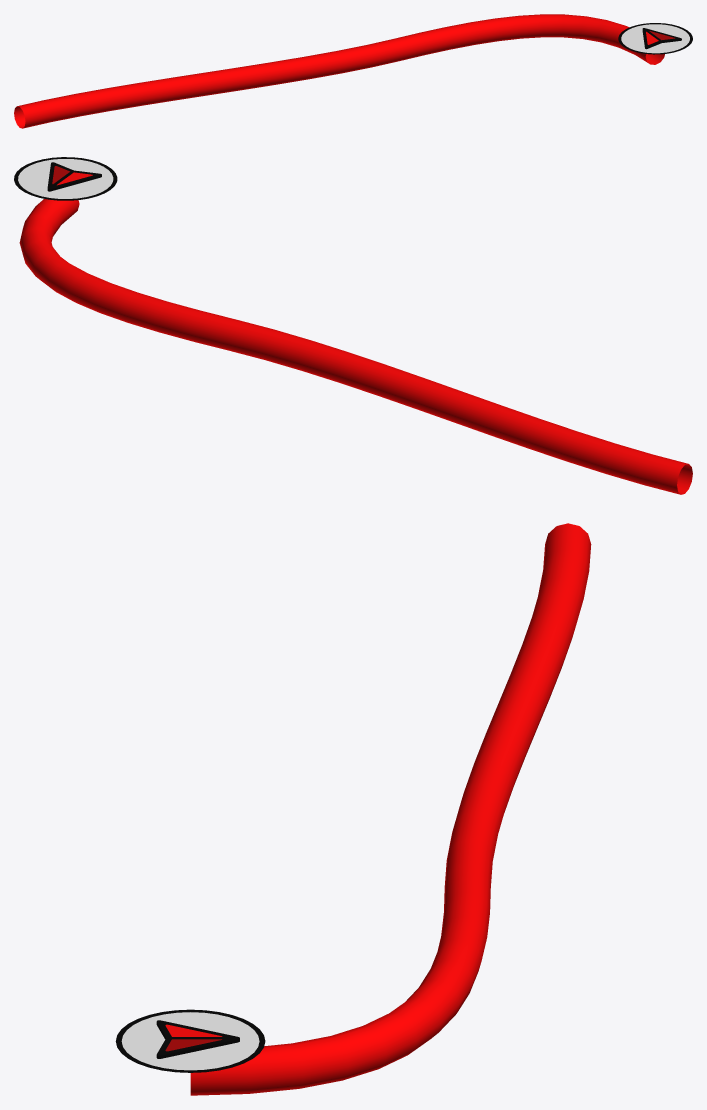
The model's file is route_bf5a87be-7395-4815-a6c8-8b43fdc8217d_de_single.glb.
3 views of the same model, one above another, from view 1: azimuth 30°, elevation 25°; view 2: azimuth 150°, elevation 25°; view 3: azimuth 270°, elevation 25° (orthographic). The views are drawn at different scales.
Parts seen in each view (by area): view 1: A2, Navipfeil.051; view 2: A2, Navipfeil.051; view 3: A2, Navipfeil.051.
Boxes of the visible parts, bbox=[...] form: A2: bbox=[14, 14, 664, 128]; Navipfeil.051: bbox=[618, 23, 692, 54]; A2: bbox=[19, 199, 692, 494]; Navipfeil.051: bbox=[14, 157, 117, 200]; A2: bbox=[190, 523, 591, 1095]; Navipfeil.051: bbox=[115, 1009, 265, 1072].
Bounding box in the file's own units: 2.3 × 0.1062 × 0.8238.
